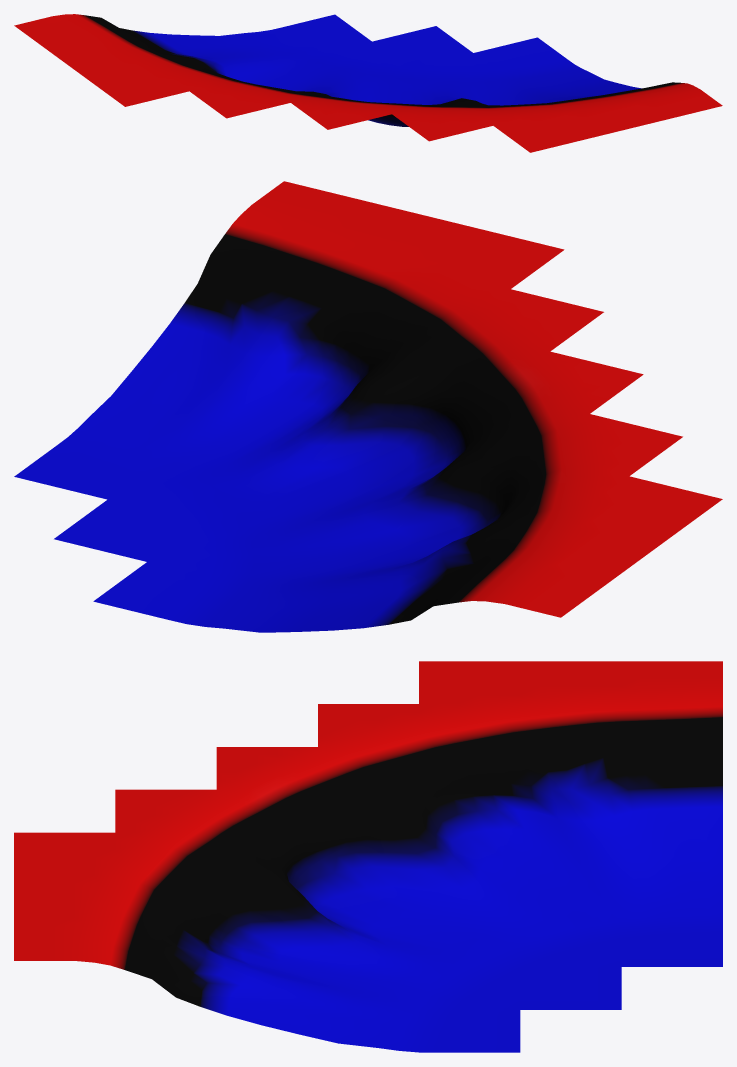
Rendered from SeaShore05B Background.fbx.
3 views of the same model, one above another, from view 1: azimuth 30°, elevation 25°; view 2: azimuth 150°, elevation 25°; view 3: azimuth 270°, elevation 25° (orthographic). The views are drawn at different scales.
Visible parts, largest first — view 1: SeaShore05B Background; view 2: SeaShore05B Background; view 3: SeaShore05B Background.
Part boxes in pixels (box(x1,y1,x2,y2)): SeaShore05B Background: box(14, 14, 722, 152); SeaShore05B Background: box(14, 181, 722, 632); SeaShore05B Background: box(14, 661, 722, 1052).
Size of the model in its own units: 7 by 1 by 7.
